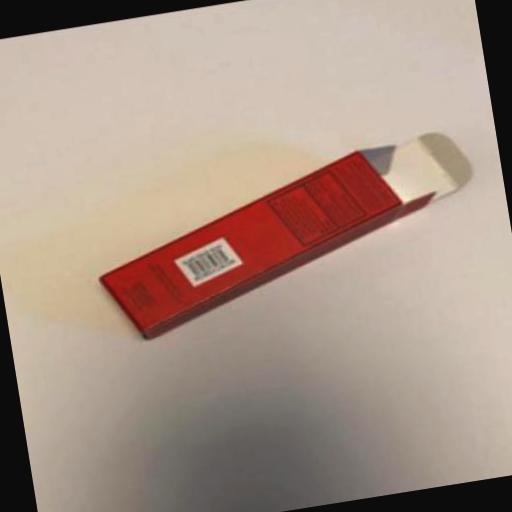cardboard: (82, 125, 488, 343)
